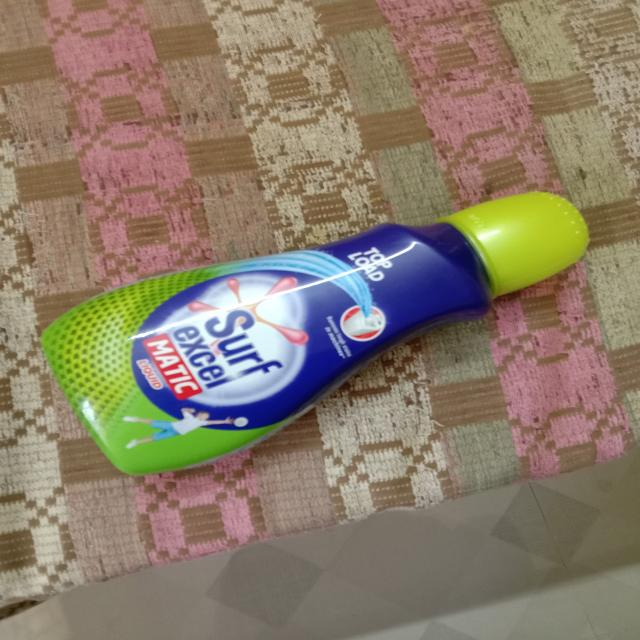detergent: (22, 189, 640, 480)
